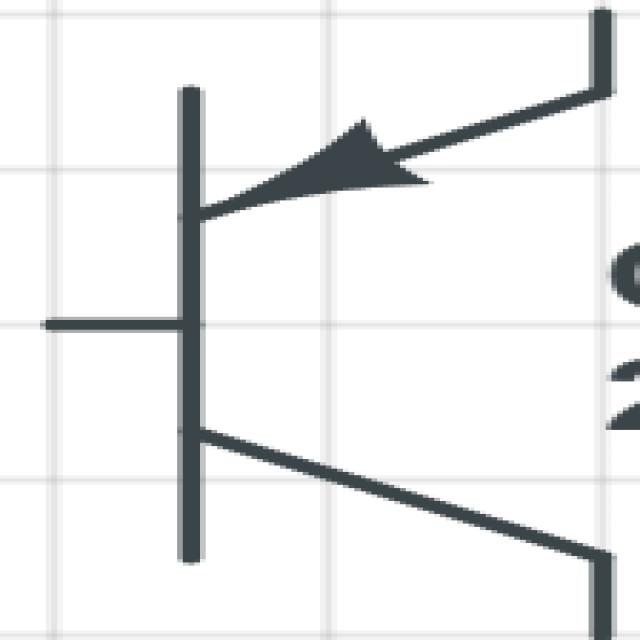pnp_bjt: (35, 10, 621, 640)
